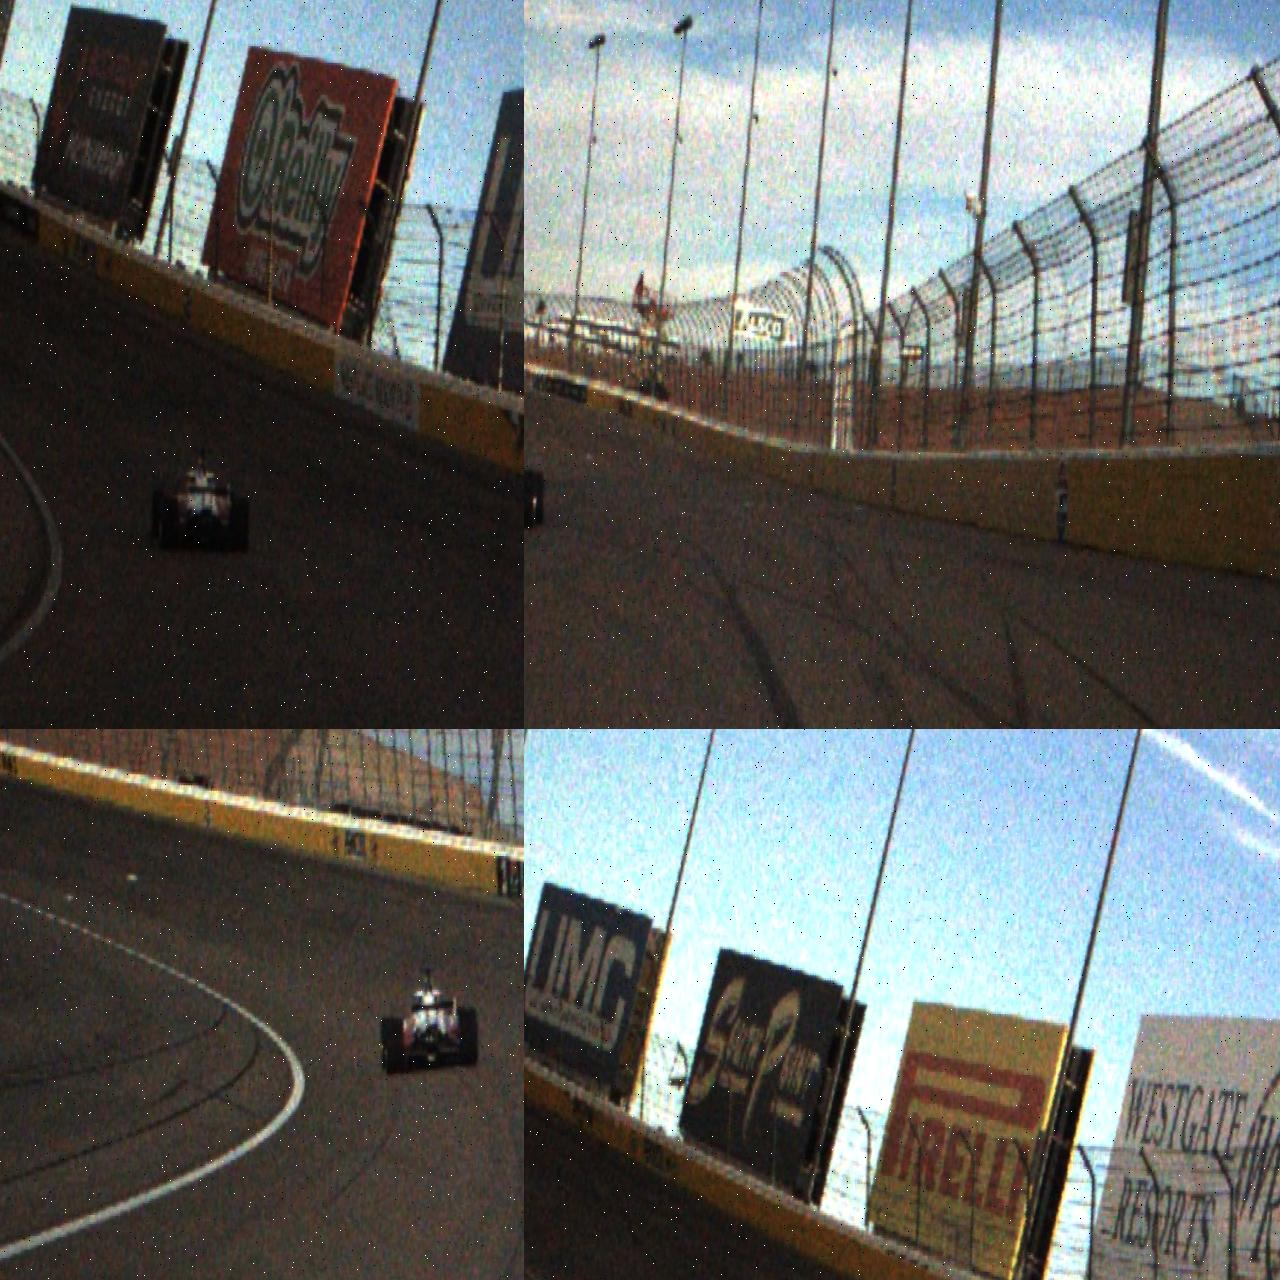AV: (148, 443, 252, 554), (379, 964, 481, 1077), (524, 418, 546, 530)
Wheel: (458, 1006, 478, 1065), (158, 497, 178, 551), (232, 496, 250, 552), (384, 1024, 402, 1075), (150, 489, 163, 542), (524, 469, 535, 529)
